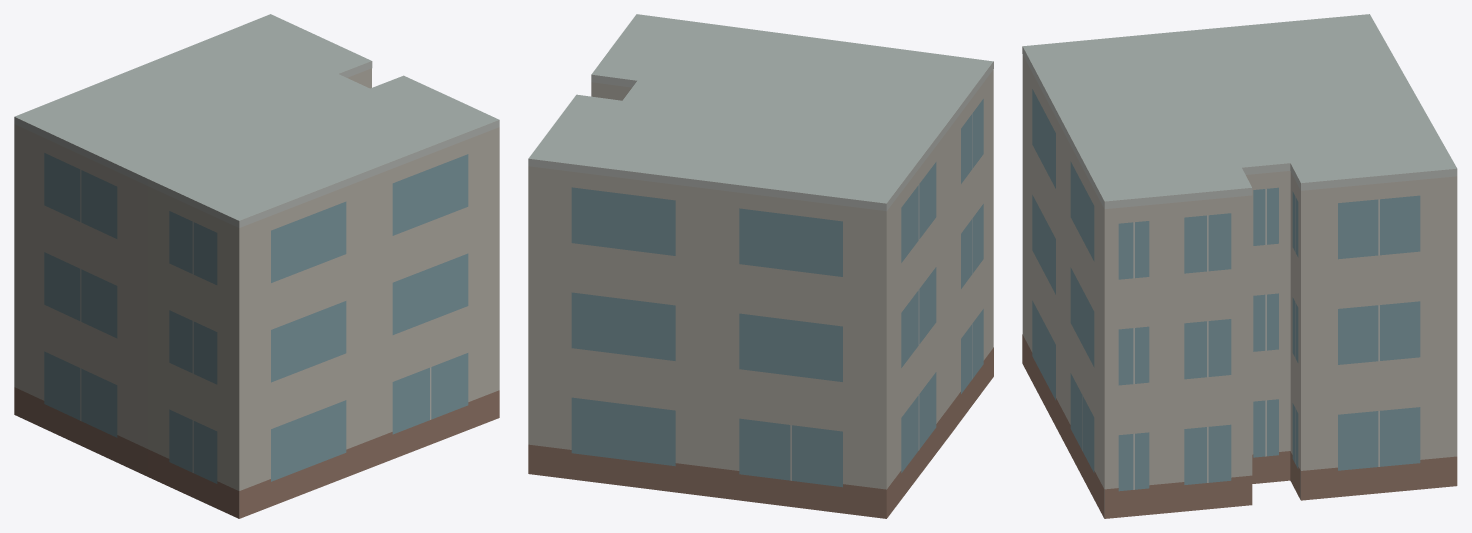
The model's file is survey-upis-32904612.glb.
3 views of the same model, side by side, from view 1: azimuth 30°, elevation 25°; view 2: azimuth 150°, elevation 25°; view 3: azimuth 270°, elevation 25° (orthographic). The views are drawn at different scales.
Visible parts, largest first — view 1: survey-upis-32904612.tmp; view 2: survey-upis-32904612.tmp; view 3: survey-upis-32904612.tmp.
Boxes of the visible parts, x1=… form: survey-upis-32904612.tmp: x1=14, y1=14, x2=499, y2=518; survey-upis-32904612.tmp: x1=528, y1=14, x2=993, y2=518; survey-upis-32904612.tmp: x1=1022, y1=14, x2=1457, y2=518.
Size of the model in its own units: 12.81 by 10.1 by 12.56.
